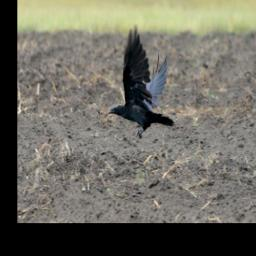Crow: (106, 23, 176, 141)
